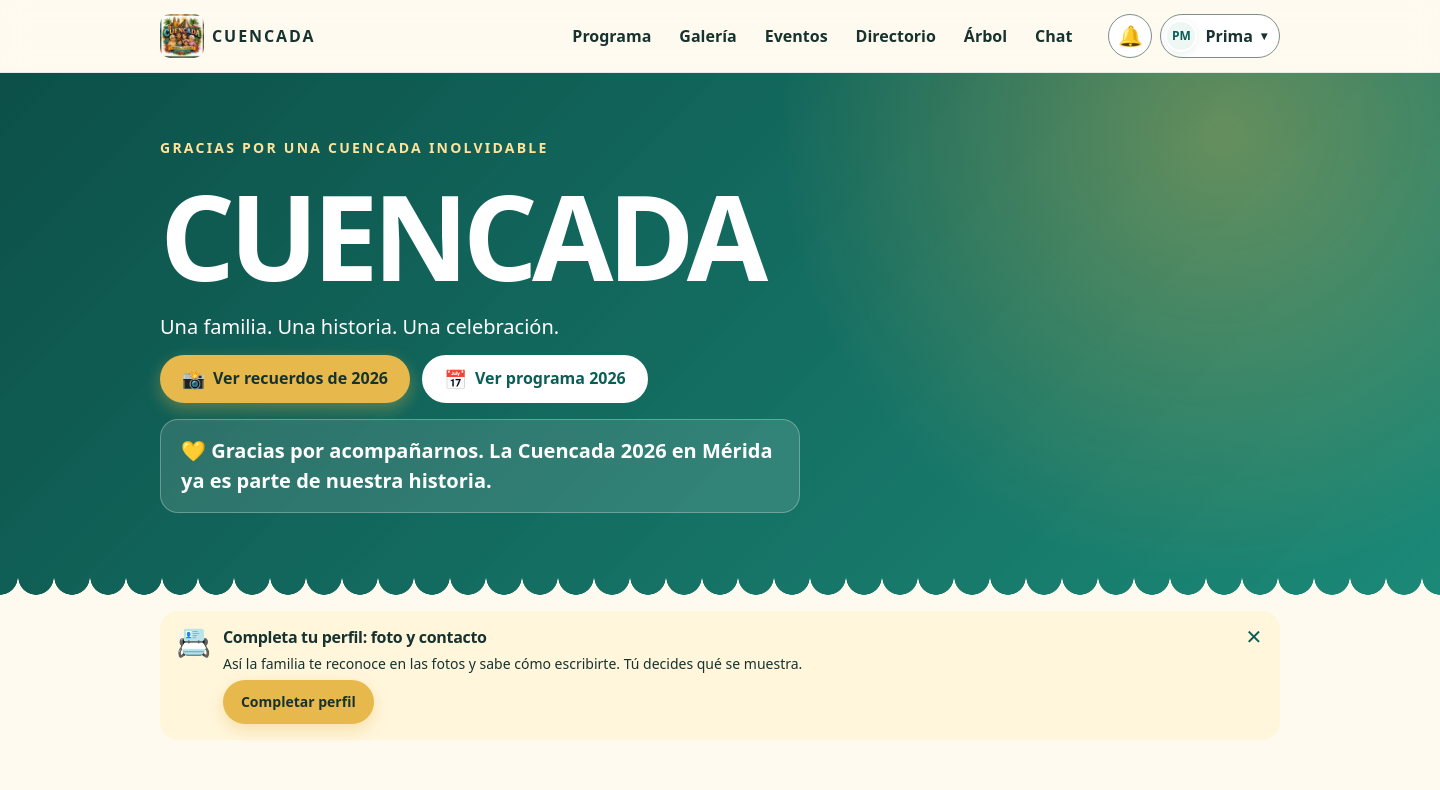
Test case: AccountMenu › logs out from Cerrar sesión
Click the button with aria-label "Mi cuenta" at (1220, 36), box [1160,14,1280,58]
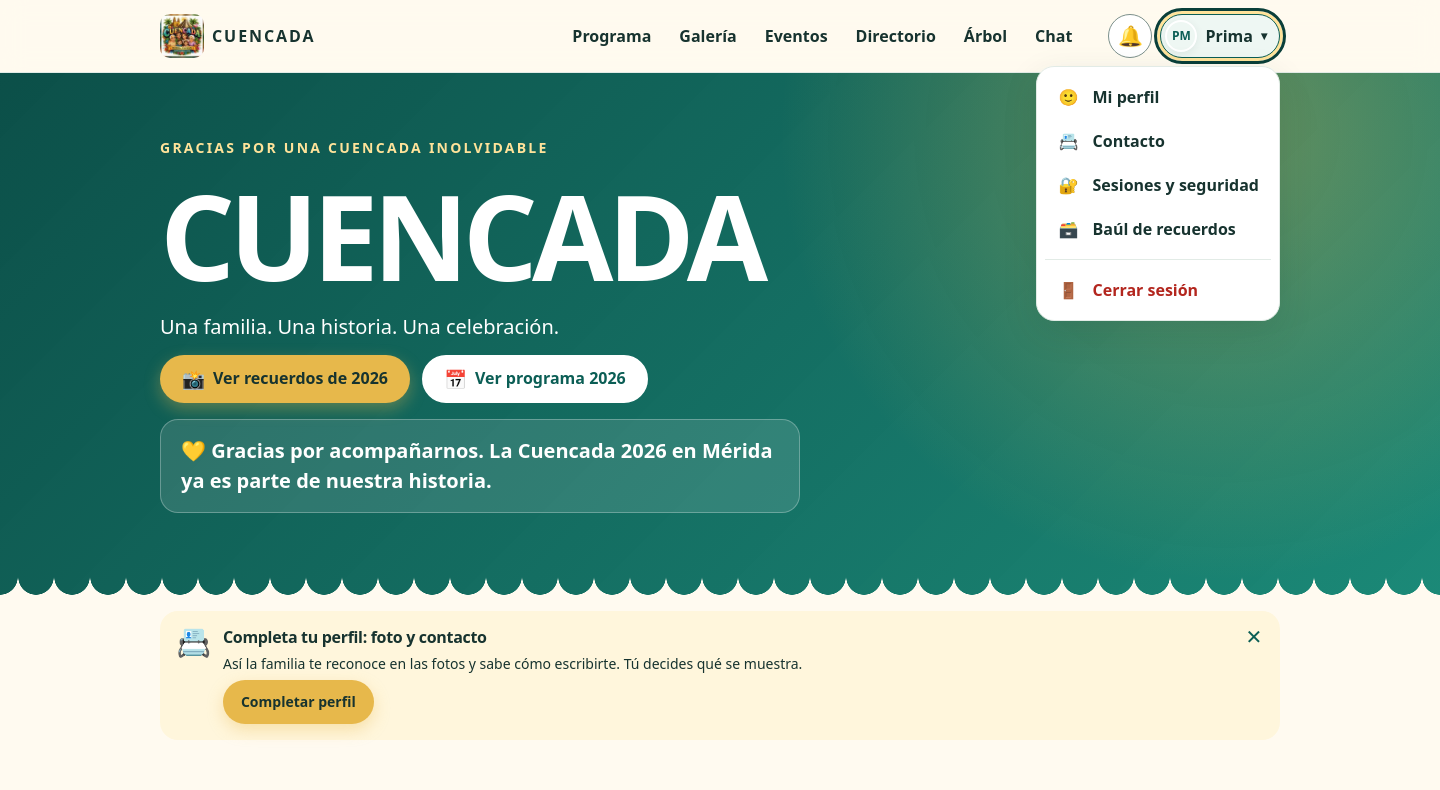
Click the button "🚪 Cerrar sesión" at (1158, 290), box [1044,268,1271,312]
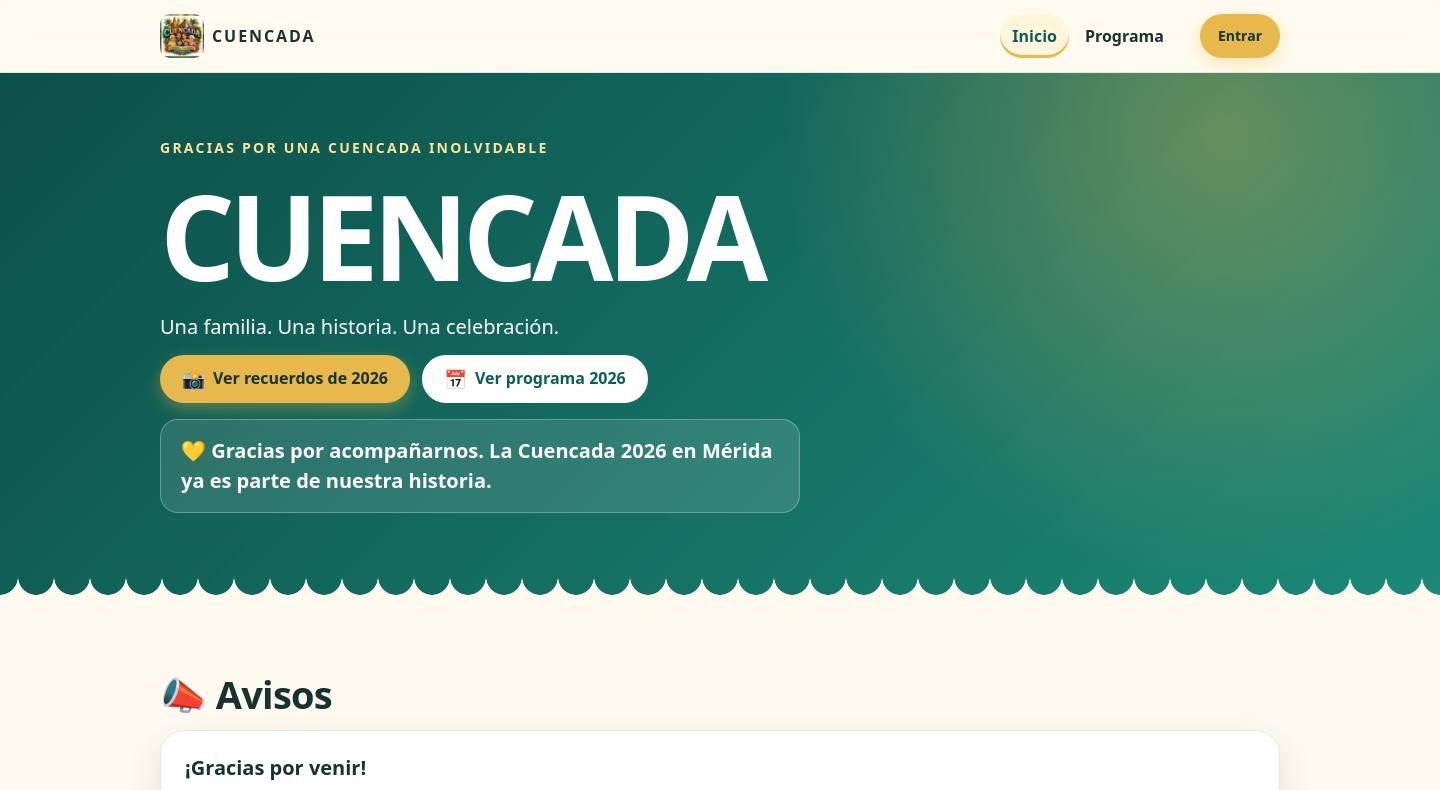
Expected: the link "Entrar" is shown, [1200,14,1280,58]
